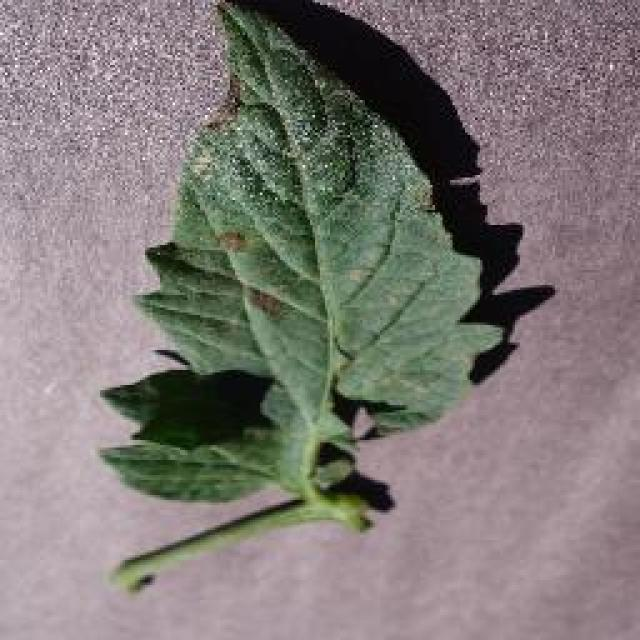Tomato Early blight leaf: (122, 1, 498, 601)
